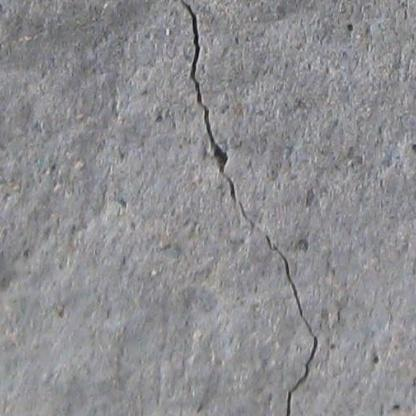Cracks: (172, 0, 324, 416)
